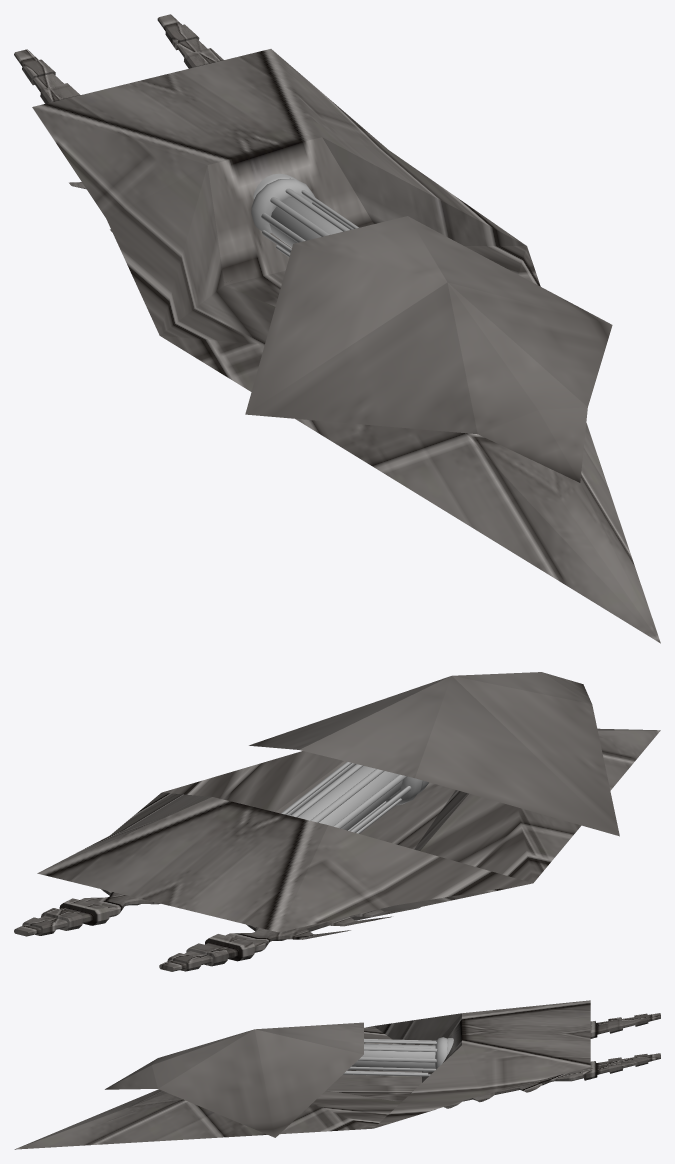
Rendered from weak_close.fbx.
3 views of the same model, one above another, from view 1: azimuth 30°, elevation 25°; view 2: azimuth 150°, elevation 25°; view 3: azimuth 270°, elevation 25° (orthographic). The views are drawn at different scales.
Parts seen in each view (by area): view 1: F_Wing, polySurface3233; view 2: F_Wing, polySurface3233; view 3: F_Wing, polySurface3233.
Boxes of the visible parts, x1,y1,x2,y2 form: F_Wing: [14, 14, 660, 643]; polySurface3233: [245, 216, 612, 482]; F_Wing: [14, 728, 660, 971]; polySurface3233: [249, 672, 619, 836]; F_Wing: [14, 1000, 660, 1149]; polySurface3233: [105, 1022, 363, 1137].
Bounding box in the file's own units: 3.92 × 2.12 × 10.43.
Materials: 2 (1 with a texture image).
